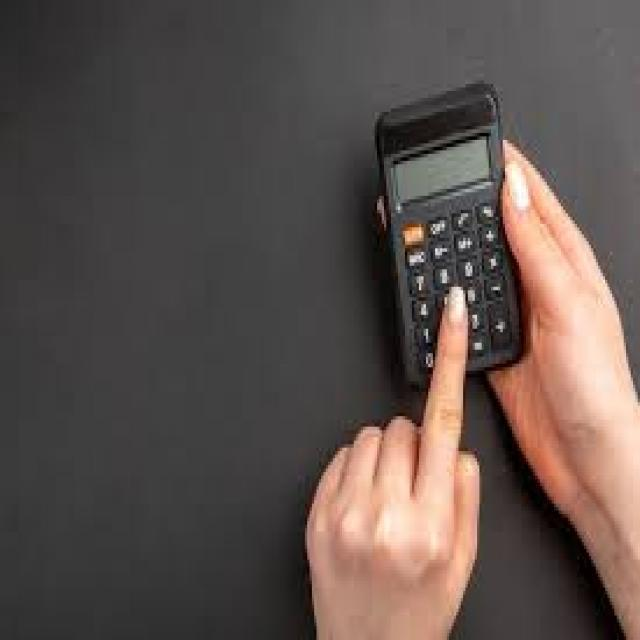Calculator: (376, 77, 536, 400)
